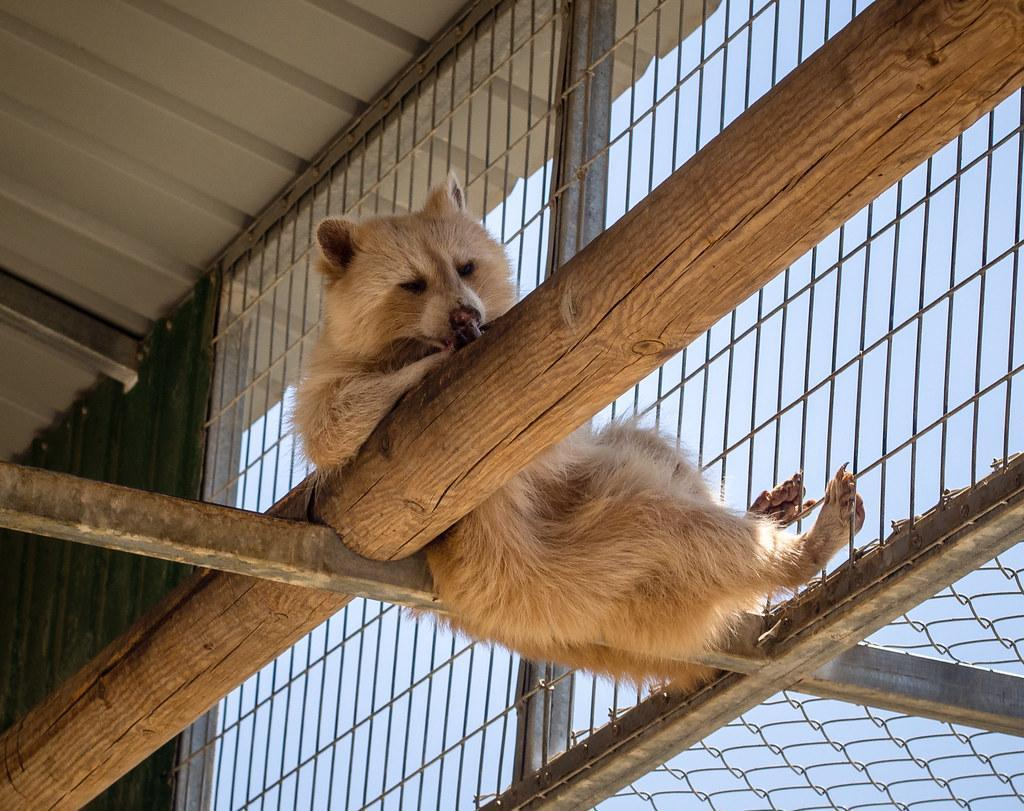raccoon: (292, 169, 872, 673)
